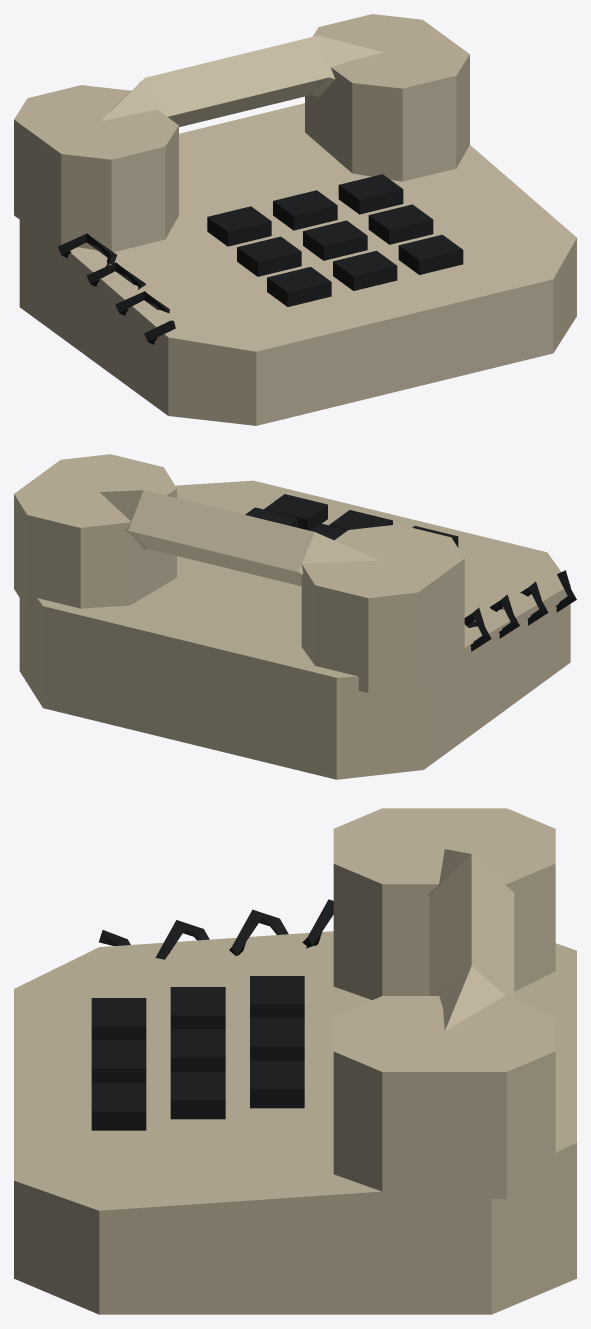
Rendered from phone_desk.glb.
3 renders of one model, top to bottom at view 1: azimuth 30°, elevation 25°; view 2: azimuth 150°, elevation 25°; view 3: azimuth 270°, elevation 25°, orthographic. The views are drawn at different scales.
Visible parts, largest first — view 1: Base teléfono, Auricular, Auricular.001, Puente auricular, Cable rizado, Botón.005, Botón.002, Botón.008, Botón.007, Botón.003, Botón.004, Botón.006 (+2 smaller); view 2: Base teléfono, Auricular, Auricular.001, Puente auricular, Cable rizado, Botón.002, Botón.001, Botón.005; view 3: Base teléfono, Auricular.001, Auricular, Puente auricular, Botón.002, Botón.005, Botón.008, Cable rizado, Botón.001, Botón.004, Botón.003, Botón (+2 smaller).
Boxes of the visible parts, bbox=[...] form: Base teléfono: bbox=[19, 103, 576, 425]; Auricular: bbox=[14, 85, 178, 251]; Auricular.001: bbox=[305, 14, 469, 181]; Puente auricular: bbox=[101, 35, 382, 127]; Cable rizado: bbox=[58, 233, 175, 344]; Botón.005: bbox=[368, 204, 433, 244]; Botón.002: bbox=[398, 234, 463, 274]; Botón.008: bbox=[338, 174, 403, 214]; Botón.007: bbox=[273, 190, 337, 230]; Botón.003: bbox=[237, 236, 301, 276]; Botón.004: bbox=[303, 220, 367, 260]; Botón.006: bbox=[207, 206, 271, 246]; Base teléfono: bbox=[19, 480, 570, 779]; Auricular: bbox=[301, 524, 464, 692]; Auricular.001: bbox=[14, 454, 176, 611]; Puente auricular: bbox=[100, 490, 378, 586]; Cable rizado: bbox=[464, 570, 576, 651]; Botón.002: bbox=[264, 494, 327, 530]; Botón.001: bbox=[329, 510, 392, 529]; Botón.005: bbox=[245, 507, 298, 527]; Base teléfono: bbox=[14, 931, 576, 1314]; Auricular.001: bbox=[333, 996, 555, 1198]; Auricular: bbox=[333, 808, 555, 1000]; Puente auricular: bbox=[427, 849, 514, 1030]; Botón.002: bbox=[91, 1083, 146, 1130]; Botón.005: bbox=[170, 1072, 225, 1119]; Botón.008: bbox=[250, 1061, 304, 1108]; Cable rizado: bbox=[99, 899, 333, 959]; Botón.001: bbox=[91, 1040, 146, 1082]; Botón.004: bbox=[170, 1029, 225, 1071]; Botón.003: bbox=[170, 987, 225, 1029]; Botón: bbox=[91, 998, 146, 1040].
Size of the model in its own units: 0.2118 by 0.0989 by 0.185.
